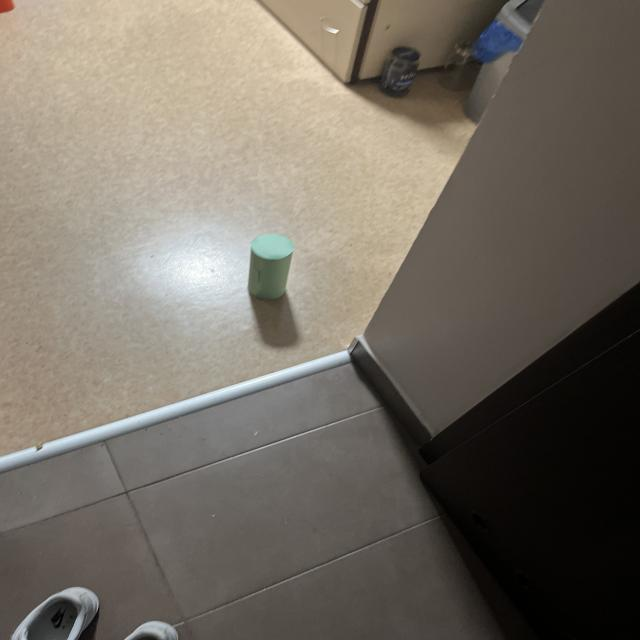meta: (248, 234, 294, 300)
